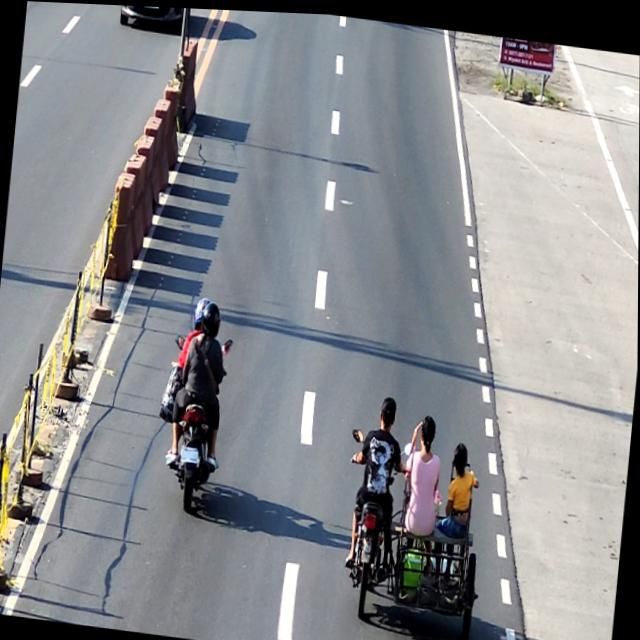Car: (118, 4, 192, 31)
License-Plate: (180, 444, 199, 461)
Motorcycle: (160, 329, 234, 515)
Tricycle: (334, 421, 493, 640)
